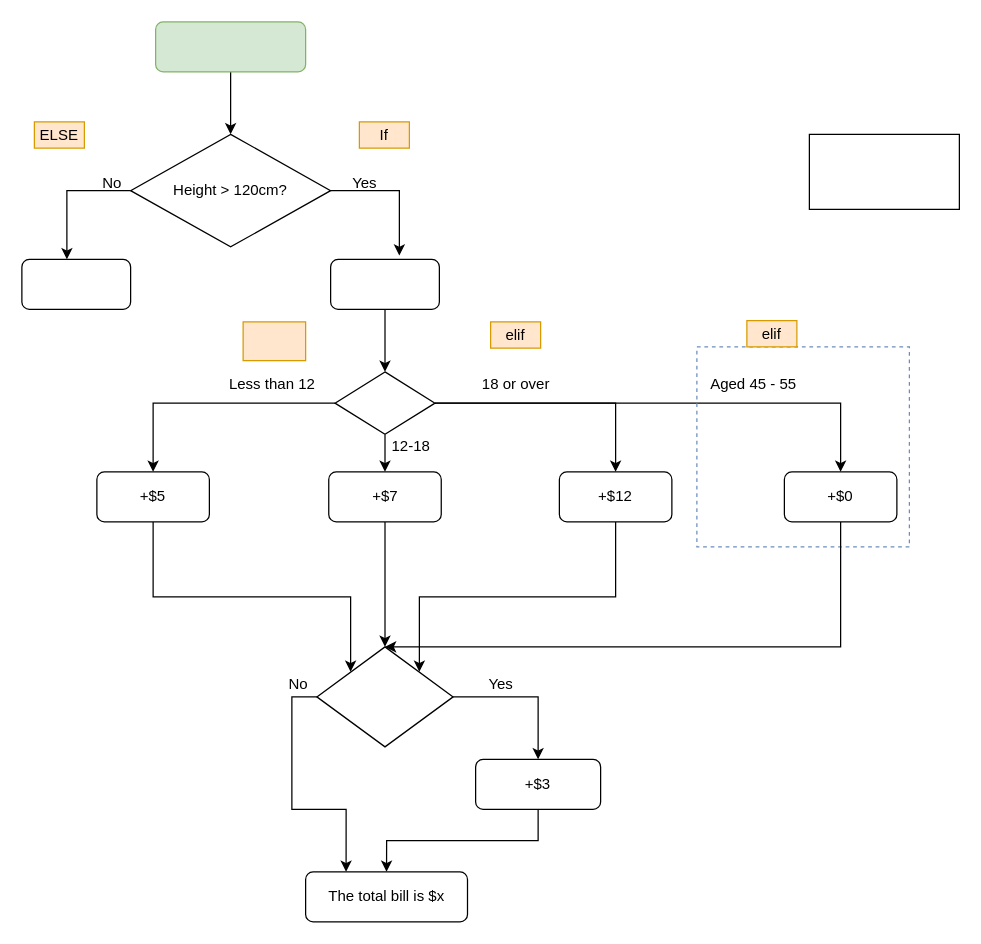
The diagram is 981 pixels wide and 944 high, and some of its shapes have lost their labels. The centre of each missing label's shape, as x and y in pixels:
age: (384,402)
Can ride: (384,283)
Can't ride: (76,283)
Nested IF: (274,341)
Start: (230,46)
want photos?: (384,696)
